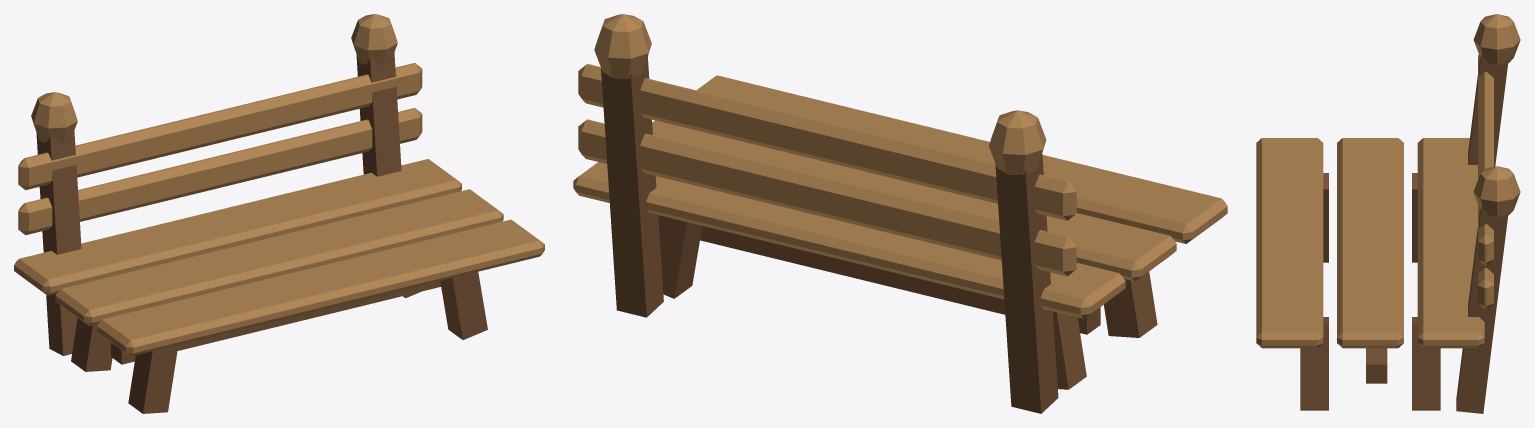
Rendered from commons-component.glb.
The picture shows the model from 3 angles, left to right: view 1: azimuth 30°, elevation 25°; view 2: azimuth 150°, elevation 25°; view 3: azimuth 270°, elevation 25°; orthographic projection. The views are drawn at different scales.
Parts seen in each view (by area): view 1: runtime_oak endgrain, runtime_aged oak; view 2: runtime_oak endgrain, runtime_aged oak; view 3: runtime_oak endgrain, runtime_aged oak.
Part boxes in pixels (box(x1,y1,x2,y2)): runtime_oak endgrain: box(14, 14, 544, 356); runtime_aged oak: box(36, 51, 487, 413); runtime_oak endgrain: box(573, 14, 1227, 318); runtime_aged oak: box(601, 56, 1157, 413); runtime_oak endgrain: box(1256, 14, 1520, 348); runtime_aged oak: box(1300, 54, 1508, 413).
Size of the model in its own units: 3.8 by 2.16 by 2.13.
